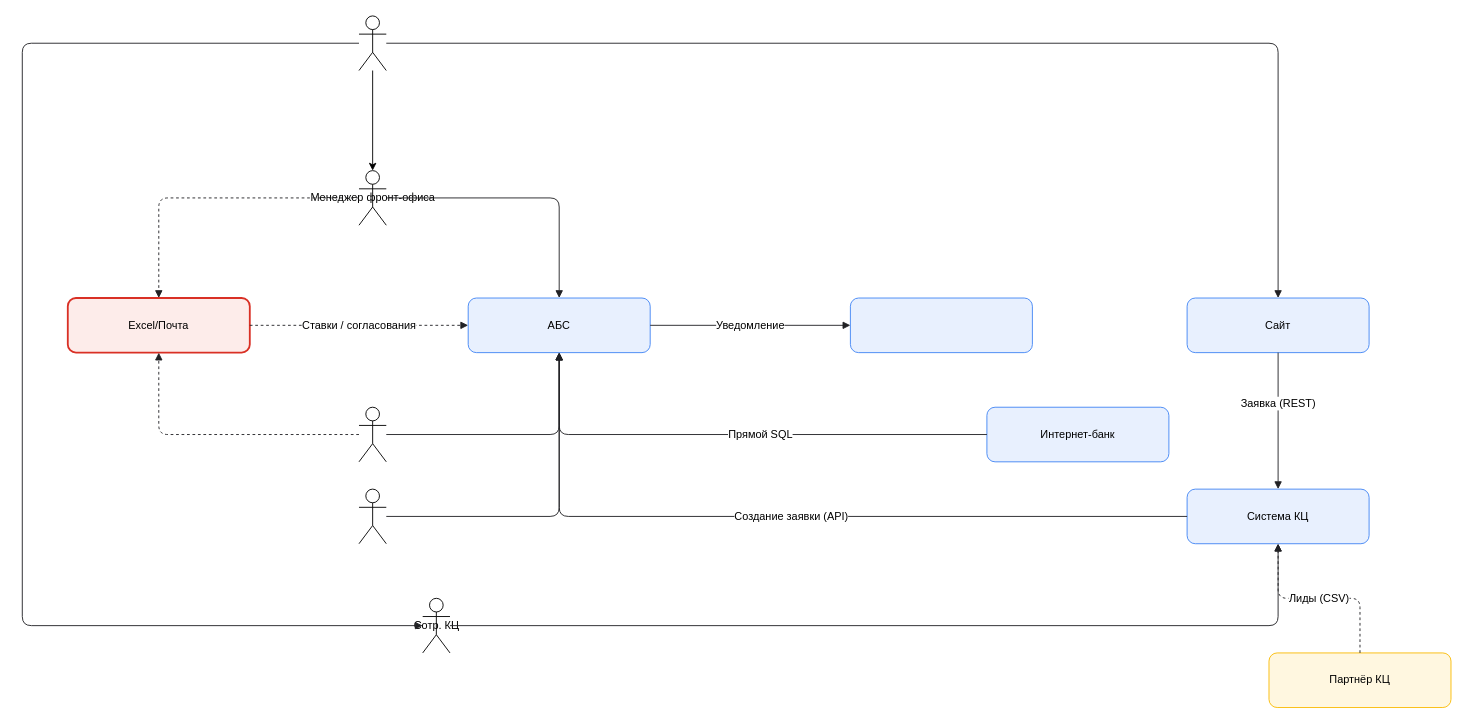
The diagram is 1467 pixels wide and 723 high, and some of its shapes have lost their labels. The centre of each missing label's shape, as x and y in pixels:
"SMS-шлюз" goes at [940,325].
"Клиент" goes at [372,43].
"Спец. депозитов" goes at [372,434].
"Спец. кредитов" goes at [372,516].
